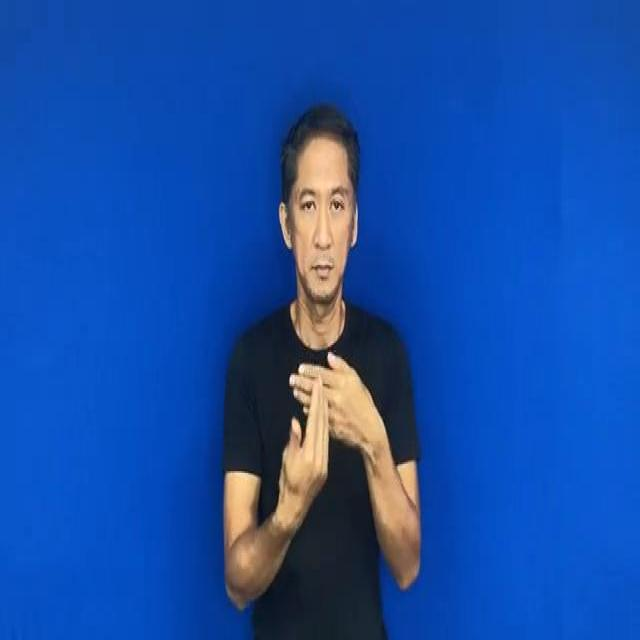bread: (272, 342, 387, 506)
